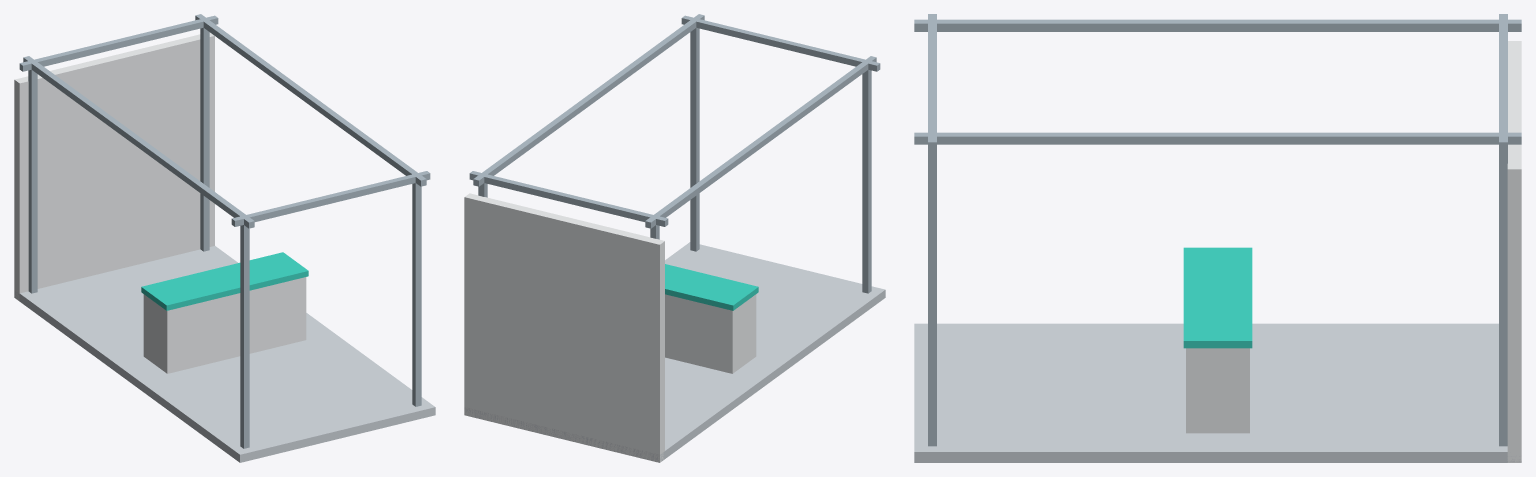
3 renders of one model, left to right at view 1: azimuth 30°, elevation 25°; view 2: azimuth 150°, elevation 25°; view 3: azimuth 270°, elevation 25°, orthographic. The views are drawn at different scales.
Parts seen in each view (by area): view 1: Exhibition Booth Concept; view 2: Exhibition Booth Concept; view 3: Exhibition Booth Concept.
Boxes of the visible parts, box(x1,y1,x2,y2) form: Exhibition Booth Concept: box(14, 14, 435, 462); Exhibition Booth Concept: box(464, 14, 885, 462); Exhibition Booth Concept: box(914, 14, 1521, 462).
Size of the model in its own units: 3 by 3.49 by 6.
